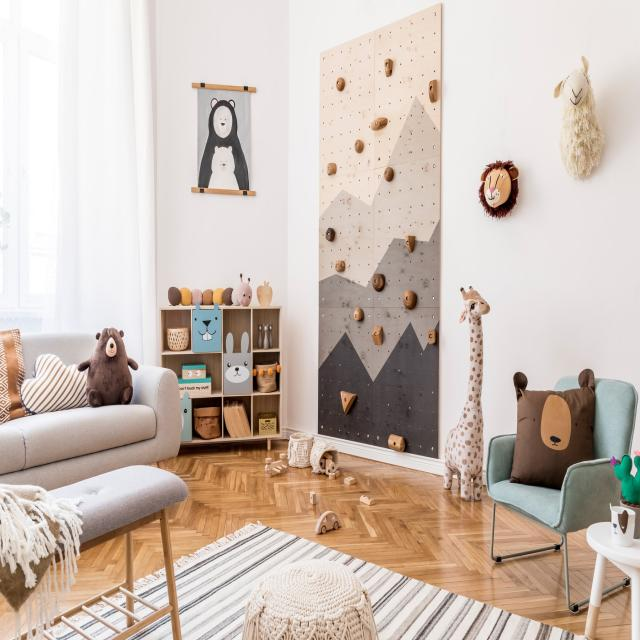modern chair: (484, 367, 640, 619)
modern shelf: (157, 282, 298, 464)
modern sofa: (0, 320, 177, 484)
